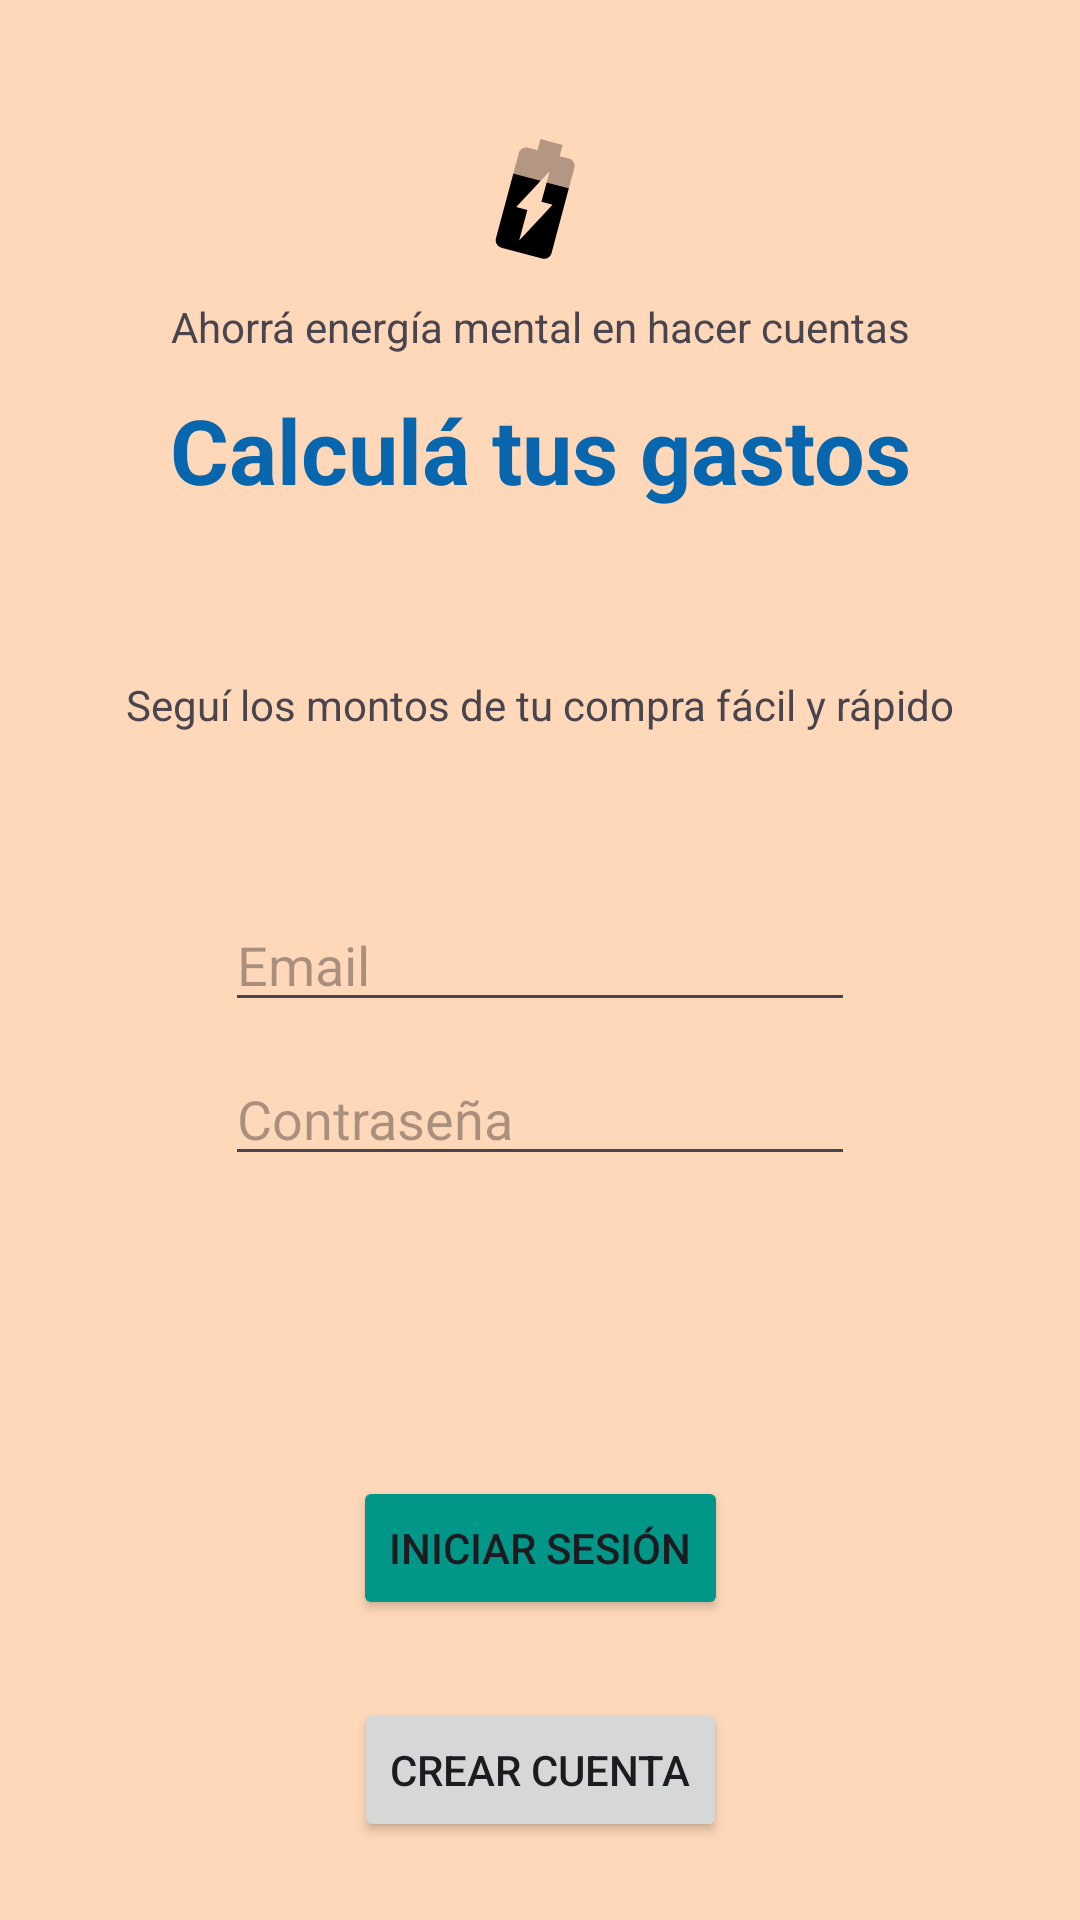

Where icons sit on this 1080 x 1920 app screen, as (x1, y1, x2, y2):
pila: (495, 139, 575, 259)
